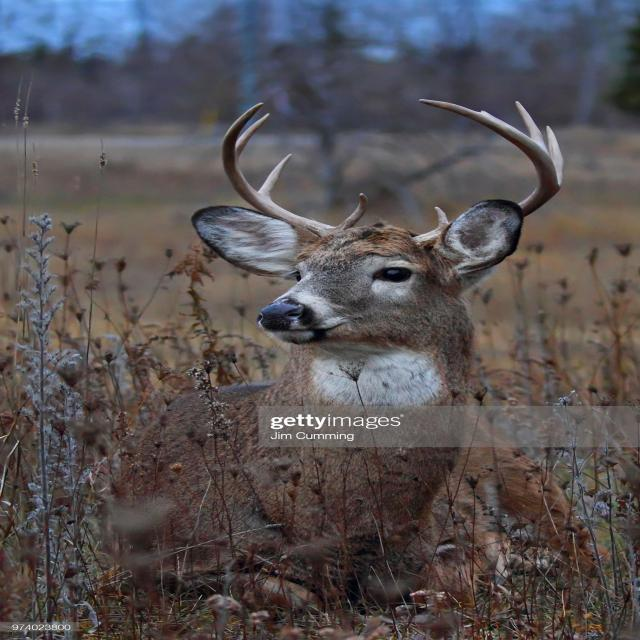L-G1: (433, 207, 449, 229)
L-G2: (546, 125, 565, 186)
L-G3: (515, 101, 548, 153)
R-F: (220, 102, 341, 238)
R-G1: (335, 193, 368, 230)
R-G2: (258, 154, 293, 200)
